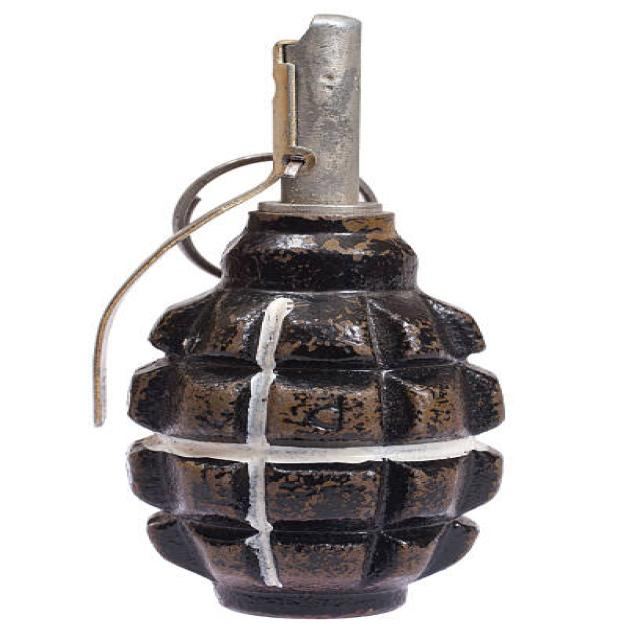grenade: (62, 6, 523, 626)
